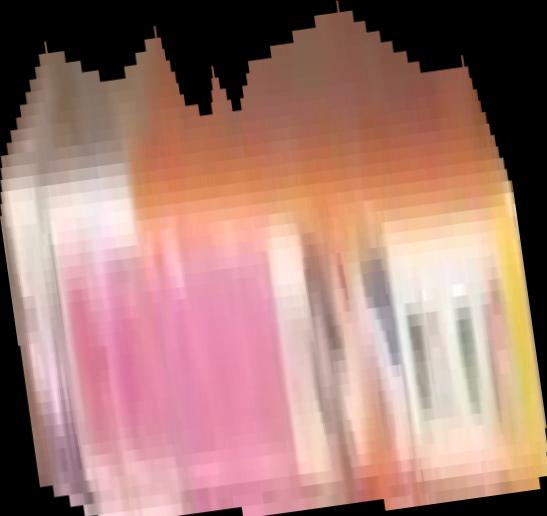flat: (1, 1, 547, 516)
